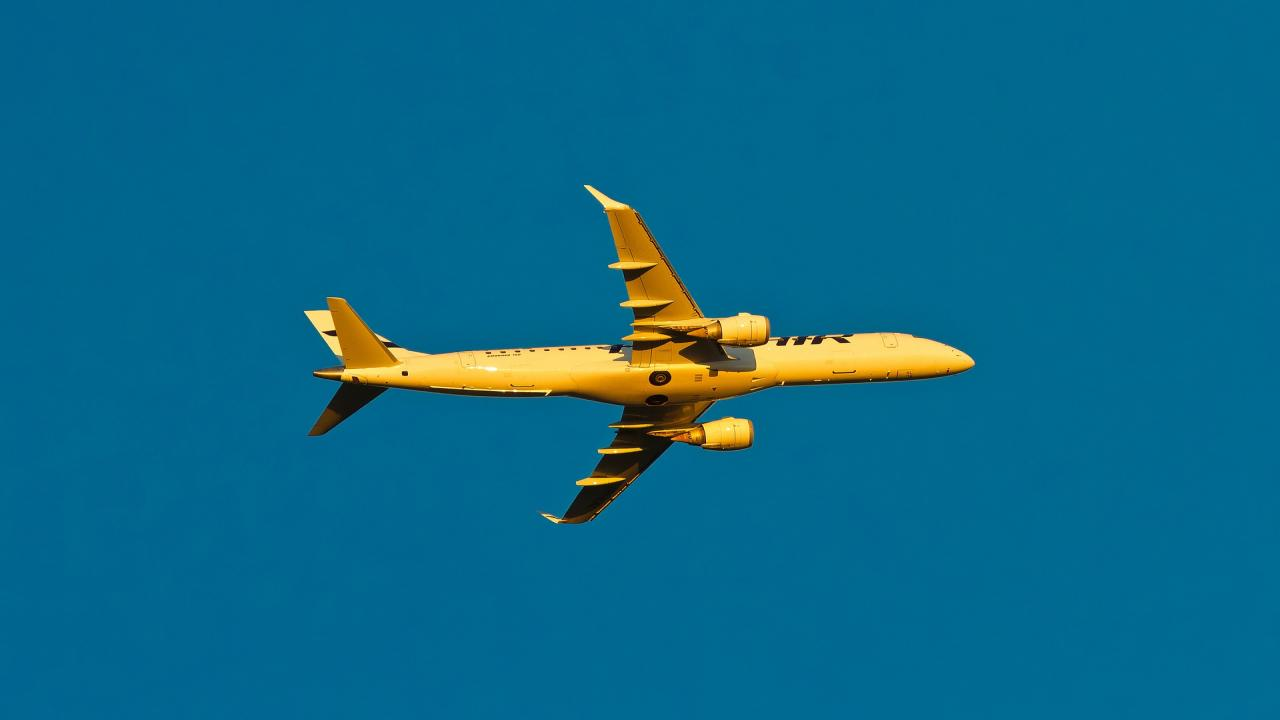Airplane: (281, 167, 992, 546)
